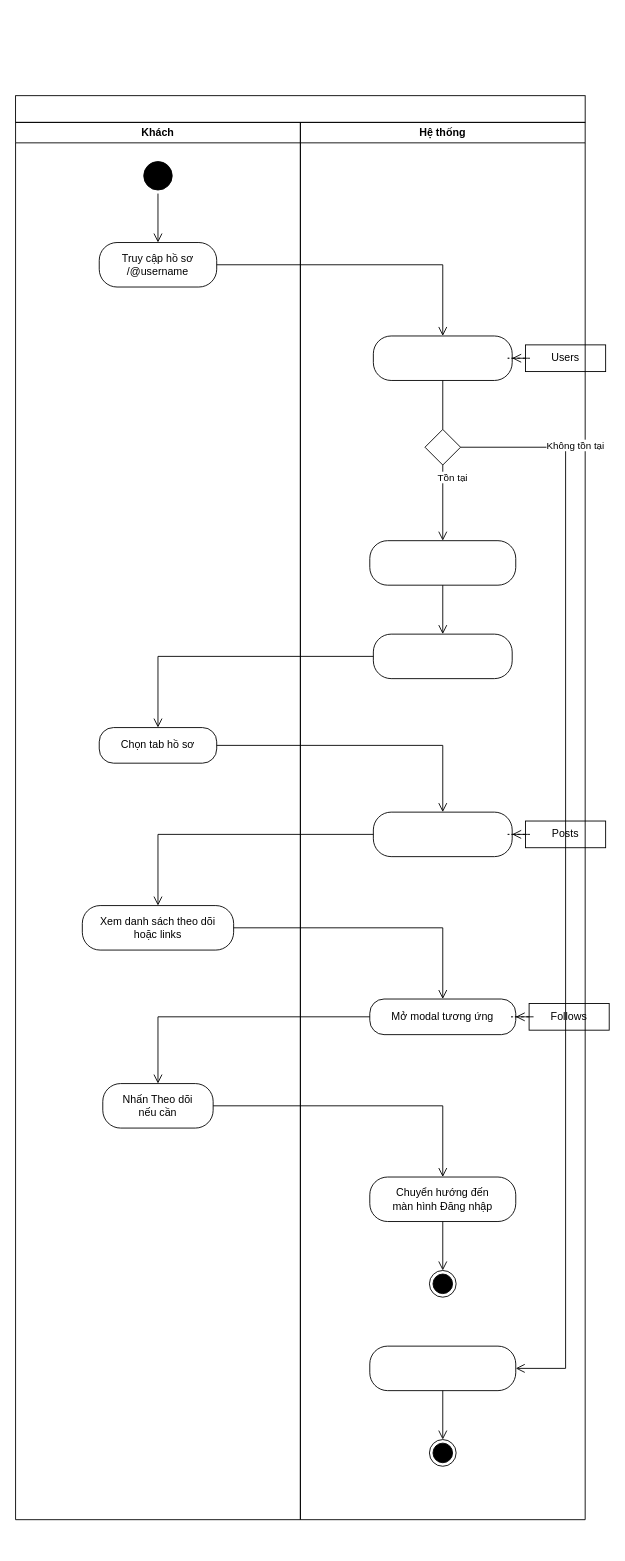
This 625x1561 diagram has some shape labels left out. Here are the shapes that lost their labels. From the top down, the box of each, then its label:
(15, 95, 585, 122): XEM HỒ SƠ NGƯỜI DÙNG
(372, 335, 512, 380): Tra cứu tài khoản đang hoạt động
(369, 540, 516, 585): Hiển thị thông tin hồ sơ công khai
(372, 633, 512, 679): Hiển thị thống kê và kỹ năng
(372, 811, 512, 857): Hiển thị nội dung theo tab đã chọn
(369, 1345, 516, 1391): Hiển thị thông báo không có tài khoản
